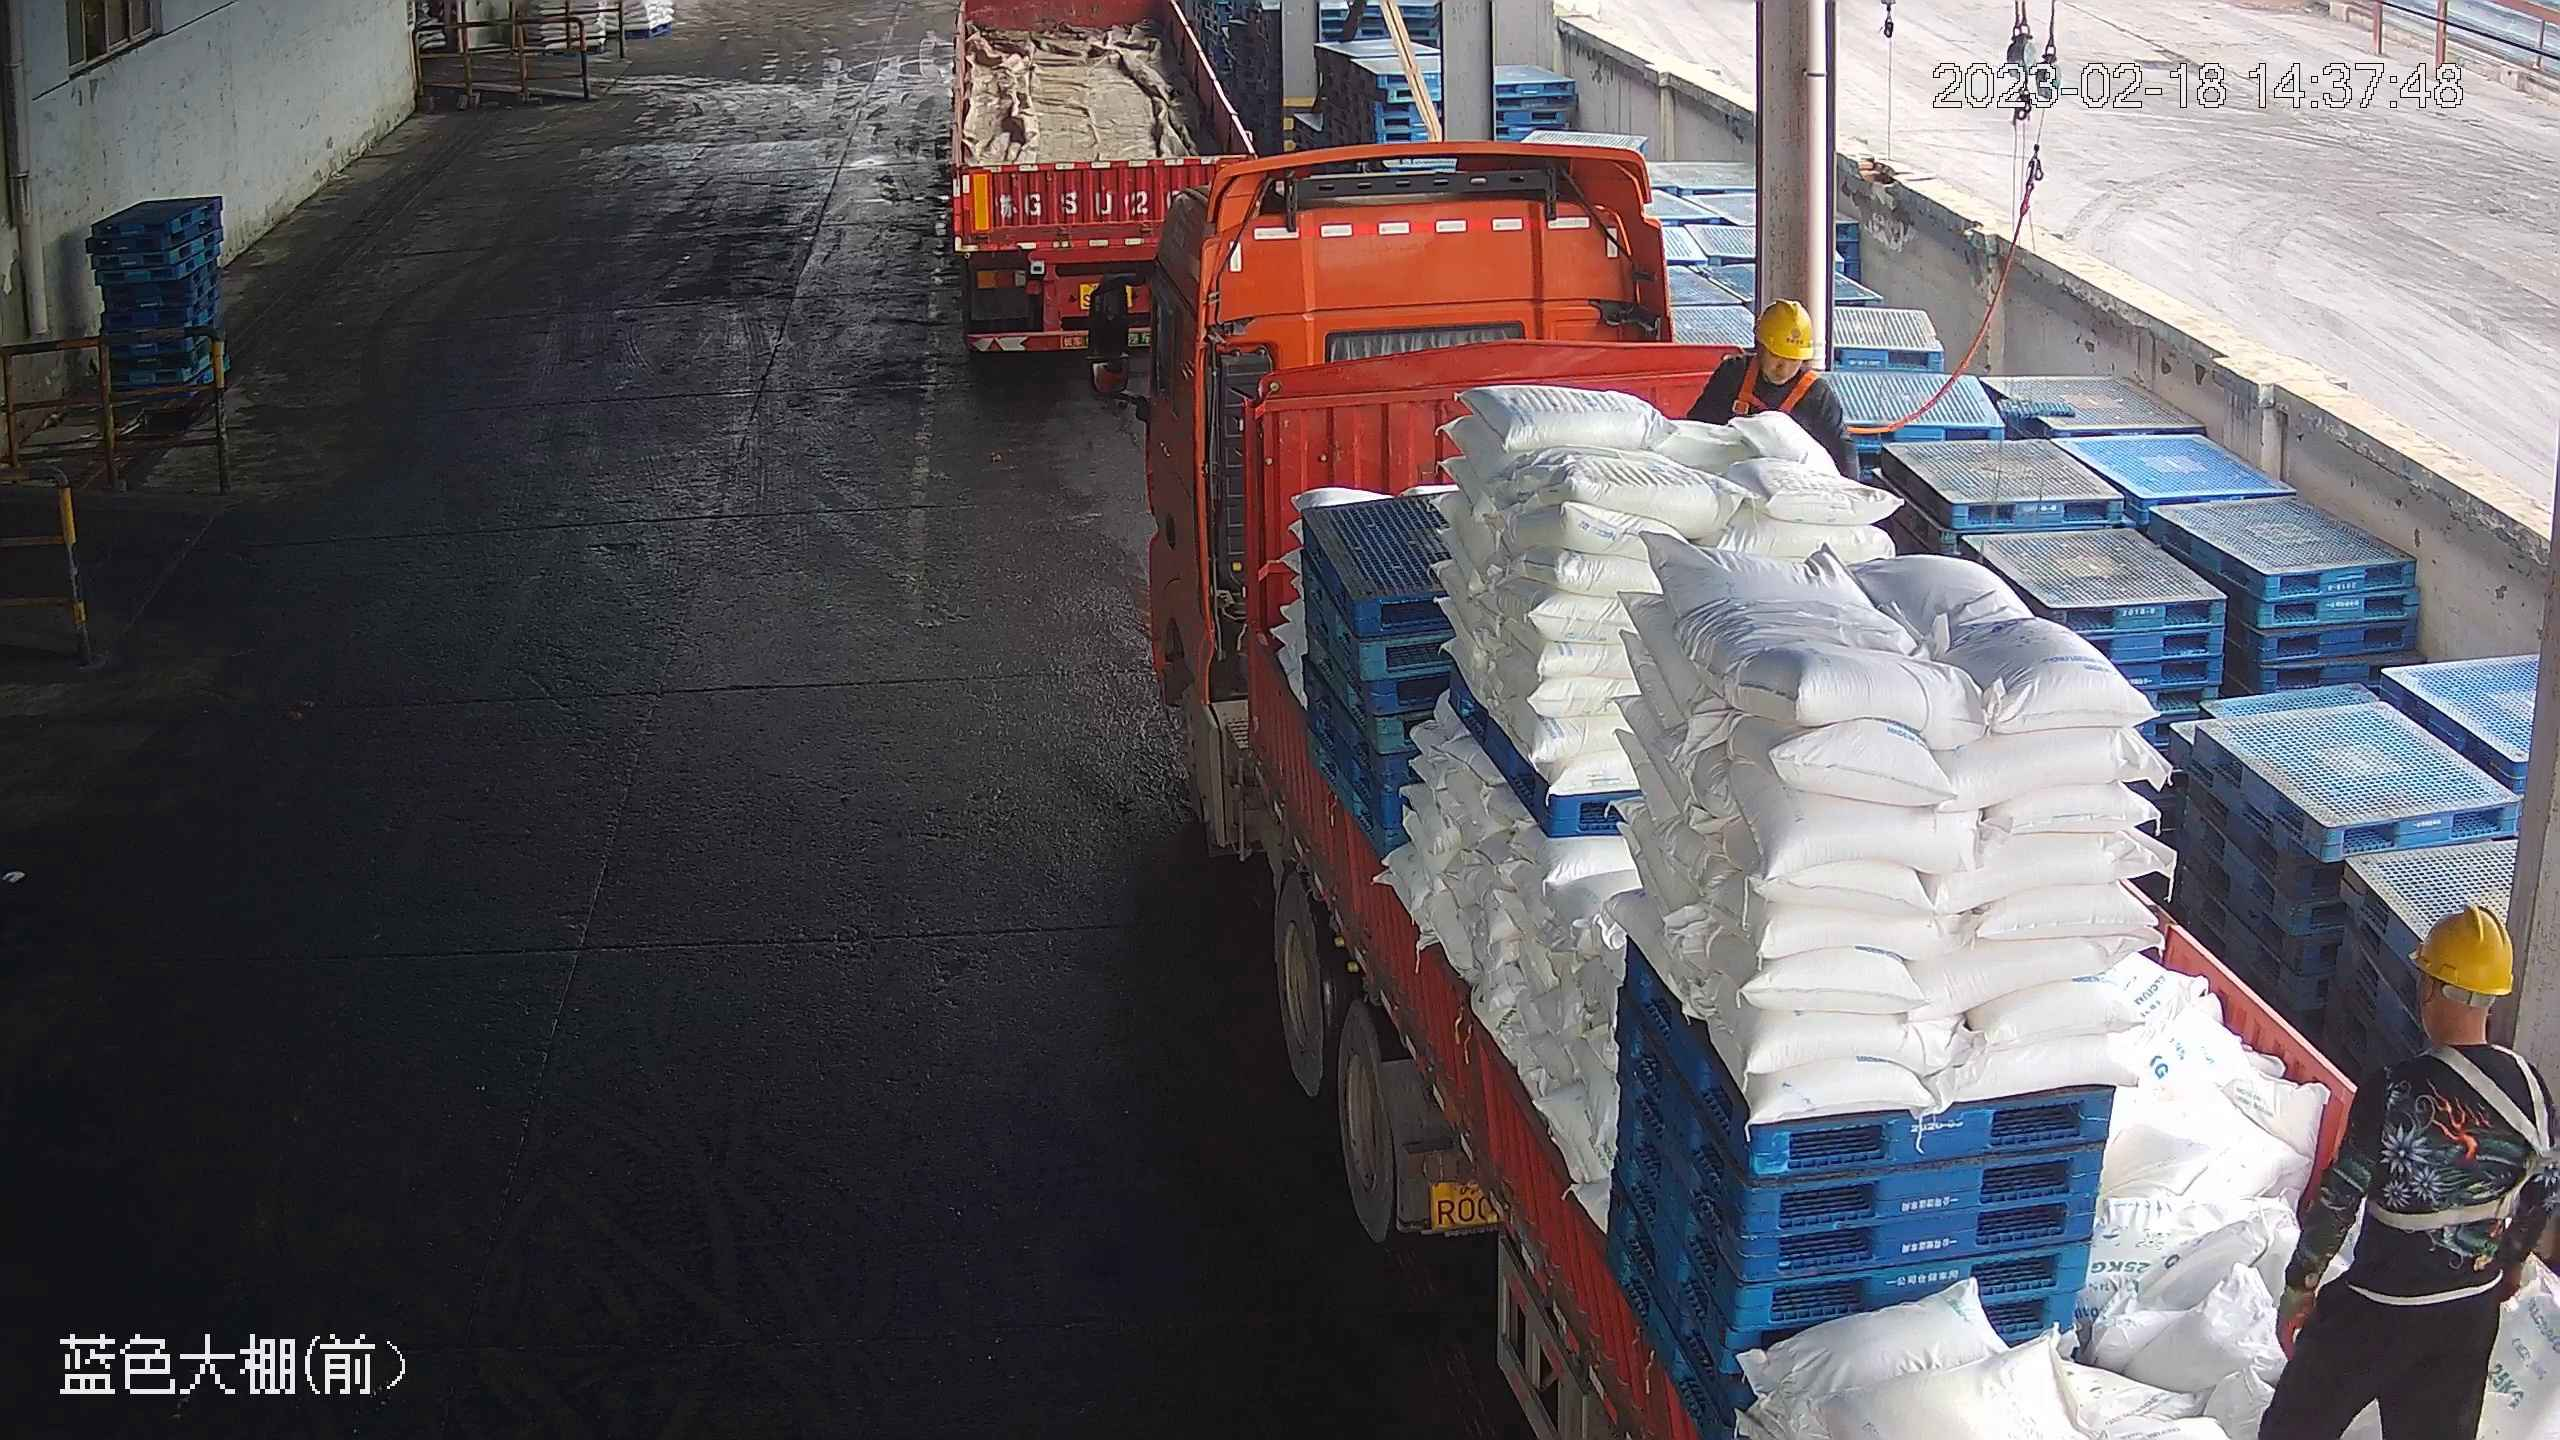belt: (1735, 355, 1825, 421)
head: (2345, 902, 2556, 1147), (1700, 292, 1842, 410)
helmet: (2407, 902, 2516, 998), (1753, 295, 1822, 358)
people: (2260, 897, 2558, 1440)
truck: (1149, 158, 2554, 1440), (937, 4, 1271, 386)
